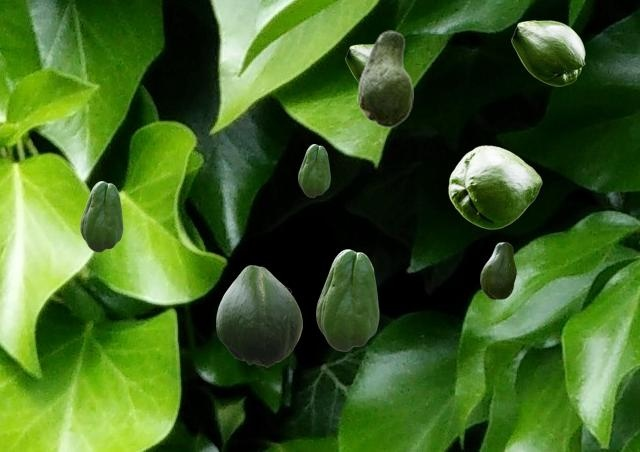sayote: (216, 265, 301, 366), (448, 145, 541, 228), (316, 249, 378, 350), (357, 30, 412, 127), (511, 20, 584, 85), (80, 181, 122, 251), (480, 242, 515, 298), (298, 144, 329, 196), (345, 44, 372, 81)
